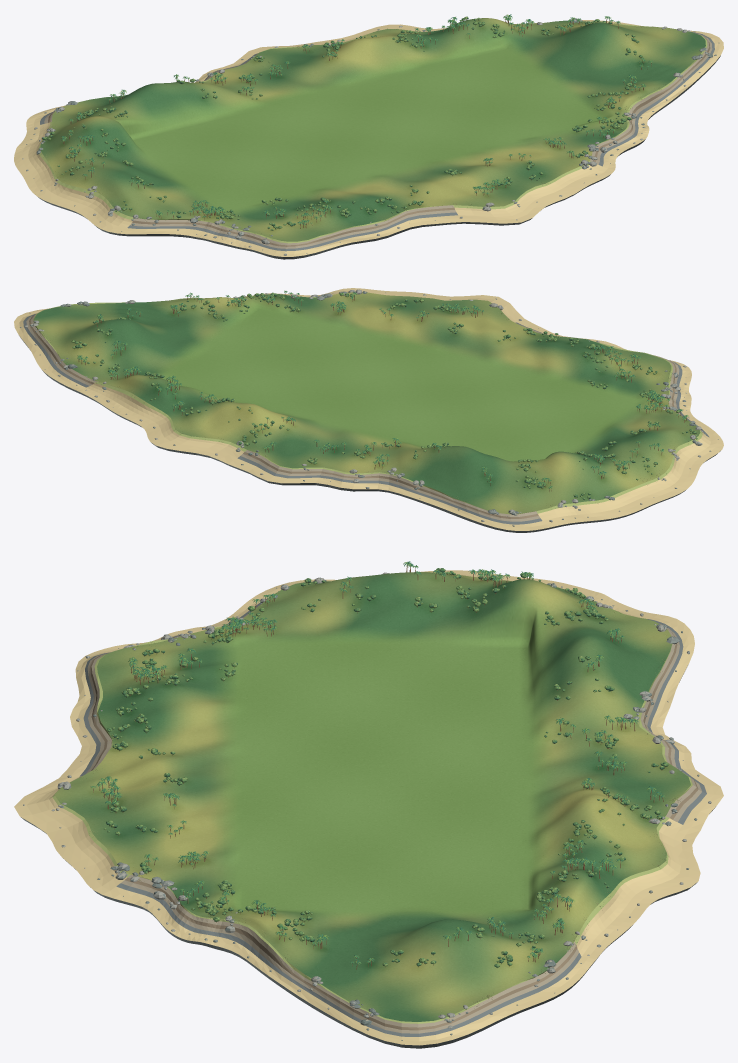
The model's file is Island_01.glb.
3 views of the same model, one above another, from view 1: azimuth 30°, elevation 25°; view 2: azimuth 150°, elevation 25°; view 3: azimuth 270°, elevation 25° (orthographic). The views are drawn at different scales.
Visible parts, largest first — view 1: Island01 Terrain-col; view 2: Island01 Terrain-col; view 3: Island01 Terrain-col.
Part boxes in pixels (x1,y1,x2,y2): Island01 Terrain-col: (14, 18, 723, 259); Island01 Terrain-col: (14, 288, 723, 532); Island01 Terrain-col: (14, 570, 723, 1048).
Bounding box in the file's own units: 1698 × 101 × 1069.
Materials: 25 (2 with a texture image).
